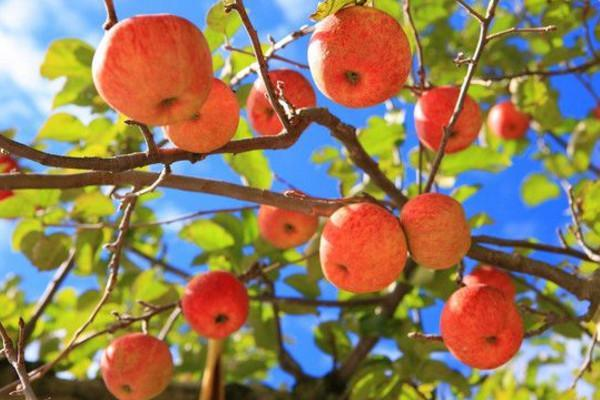apple: (89, 12, 213, 123), (306, 3, 414, 107), (317, 200, 406, 295), (440, 283, 527, 370), (399, 192, 479, 267), (412, 84, 482, 160), (166, 81, 242, 149), (247, 66, 318, 137), (98, 332, 173, 399), (181, 270, 249, 341), (256, 200, 317, 248)
